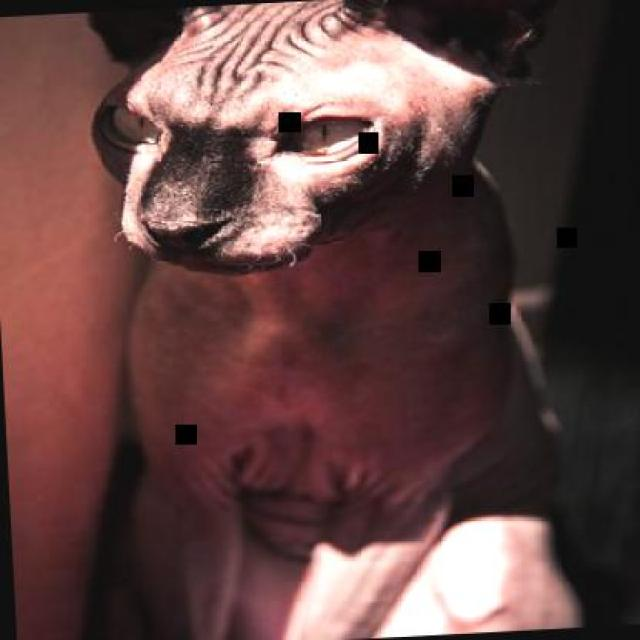cat: (77, 0, 591, 638)
